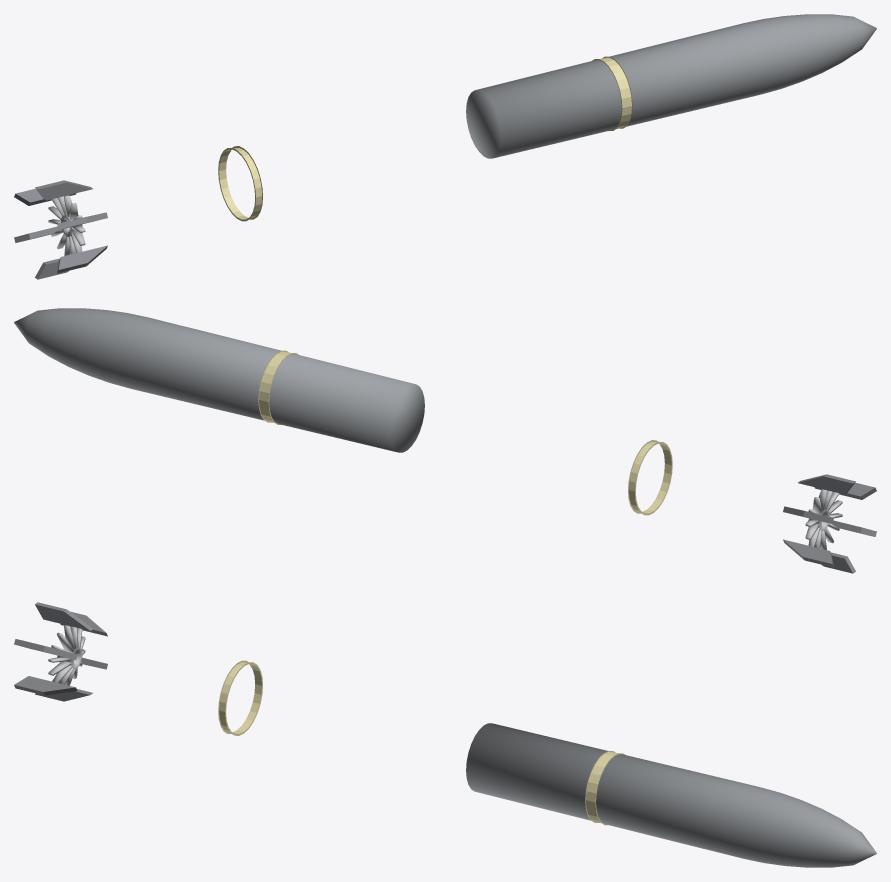
File: RU_TORP_SET53_LOD1.fbx
3 views of the same model, one above another, from view 1: azimuth 30°, elevation 25°; view 2: azimuth 150°, elevation 25°; view 3: azimuth 330°, elevation 25° (orthographic).
Visible parts, largest first — view 1: WPN_RU_TORP_SET53_LOD1_Body, WPN_RU_TORP_SET53_LOD1_Fins, WPN_RU_TORP_SET53_LOD1_Marking, WPN_RU_TORP_SET53_LOD1_Propulsor; view 2: WPN_RU_TORP_SET53_LOD1_Body, WPN_RU_TORP_SET53_LOD1_Fins, WPN_RU_TORP_SET53_LOD1_Marking, WPN_RU_TORP_SET53_LOD1_Propulsor; view 3: WPN_RU_TORP_SET53_LOD1_Body, WPN_RU_TORP_SET53_LOD1_Fins, WPN_RU_TORP_SET53_LOD1_Marking, WPN_RU_TORP_SET53_LOD1_Propulsor.
Part boxes in pixels (left/top/right/bottom): WPN_RU_TORP_SET53_LOD1_Body: left=466, top=14, right=876, bottom=158; WPN_RU_TORP_SET53_LOD1_Fins: left=14, top=180, right=107, bottom=279; WPN_RU_TORP_SET53_LOD1_Marking: left=218, top=56, right=632, bottom=221; WPN_RU_TORP_SET53_LOD1_Propulsor: left=48, top=195, right=85, bottom=255; WPN_RU_TORP_SET53_LOD1_Body: left=14, top=308, right=424, bottom=452; WPN_RU_TORP_SET53_LOD1_Fins: left=783, top=474, right=876, bottom=573; WPN_RU_TORP_SET53_LOD1_Marking: left=258, top=350, right=672, bottom=515; WPN_RU_TORP_SET53_LOD1_Propulsor: left=805, top=489, right=842, bottom=549; WPN_RU_TORP_SET53_LOD1_Body: left=466, top=723, right=876, bottom=867; WPN_RU_TORP_SET53_LOD1_Fins: left=14, top=602, right=107, bottom=701; WPN_RU_TORP_SET53_LOD1_Marking: left=218, top=660, right=625, bottom=825; WPN_RU_TORP_SET53_LOD1_Propulsor: left=48, top=625, right=85, bottom=685.
Size of the model in its own units: 7.03 by 0.6447 by 0.7199.
